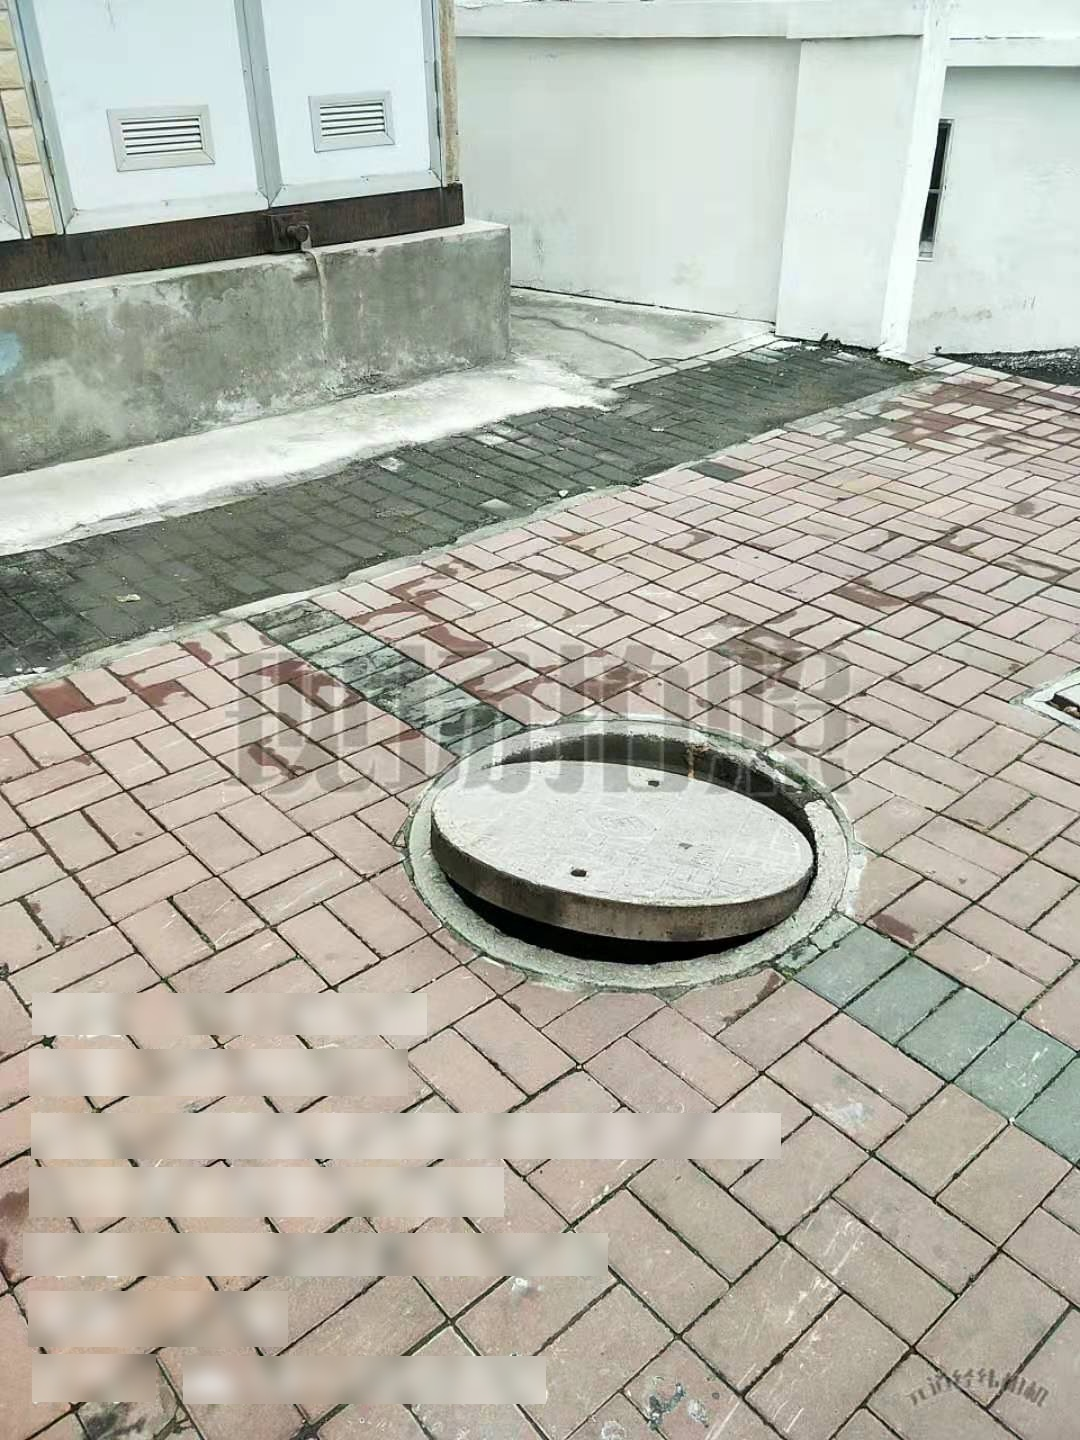uncovered: (408, 715, 853, 991)
